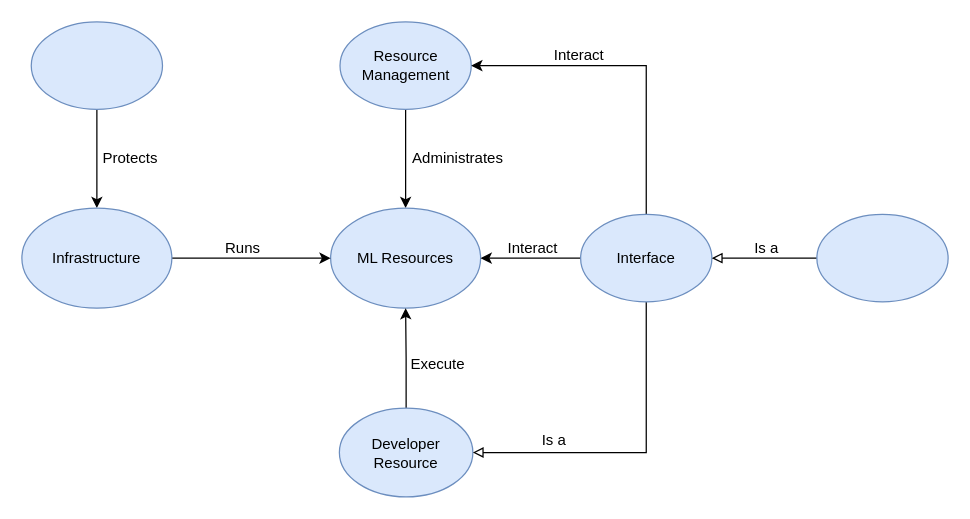
Image size: 970x519. Some labels were removed from this diagram. Each missing label, with the box of its shape:
REST API: (816, 213, 948, 302)
Security: (30, 21, 162, 109)
